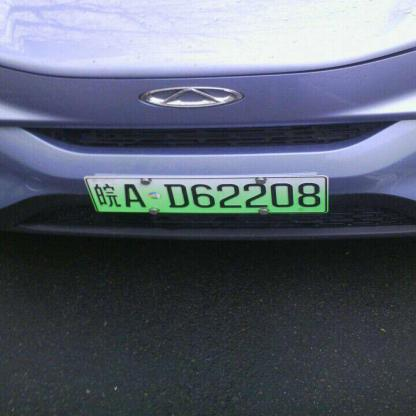lp: (85, 176, 326, 212)
